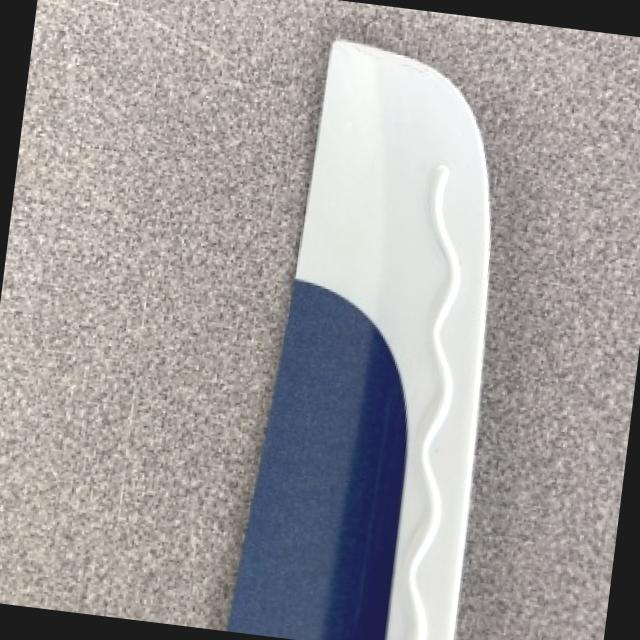healthy: (233, 38, 491, 640)
